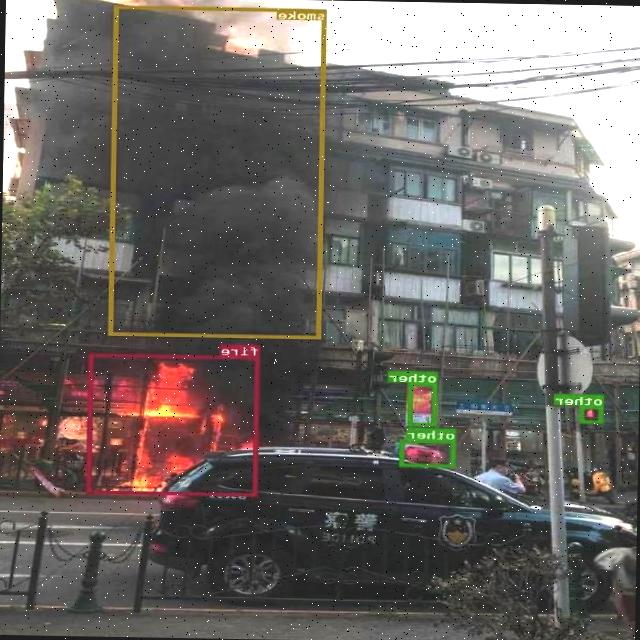fire: (88, 352, 260, 495)
smoke: (109, 4, 328, 338)
